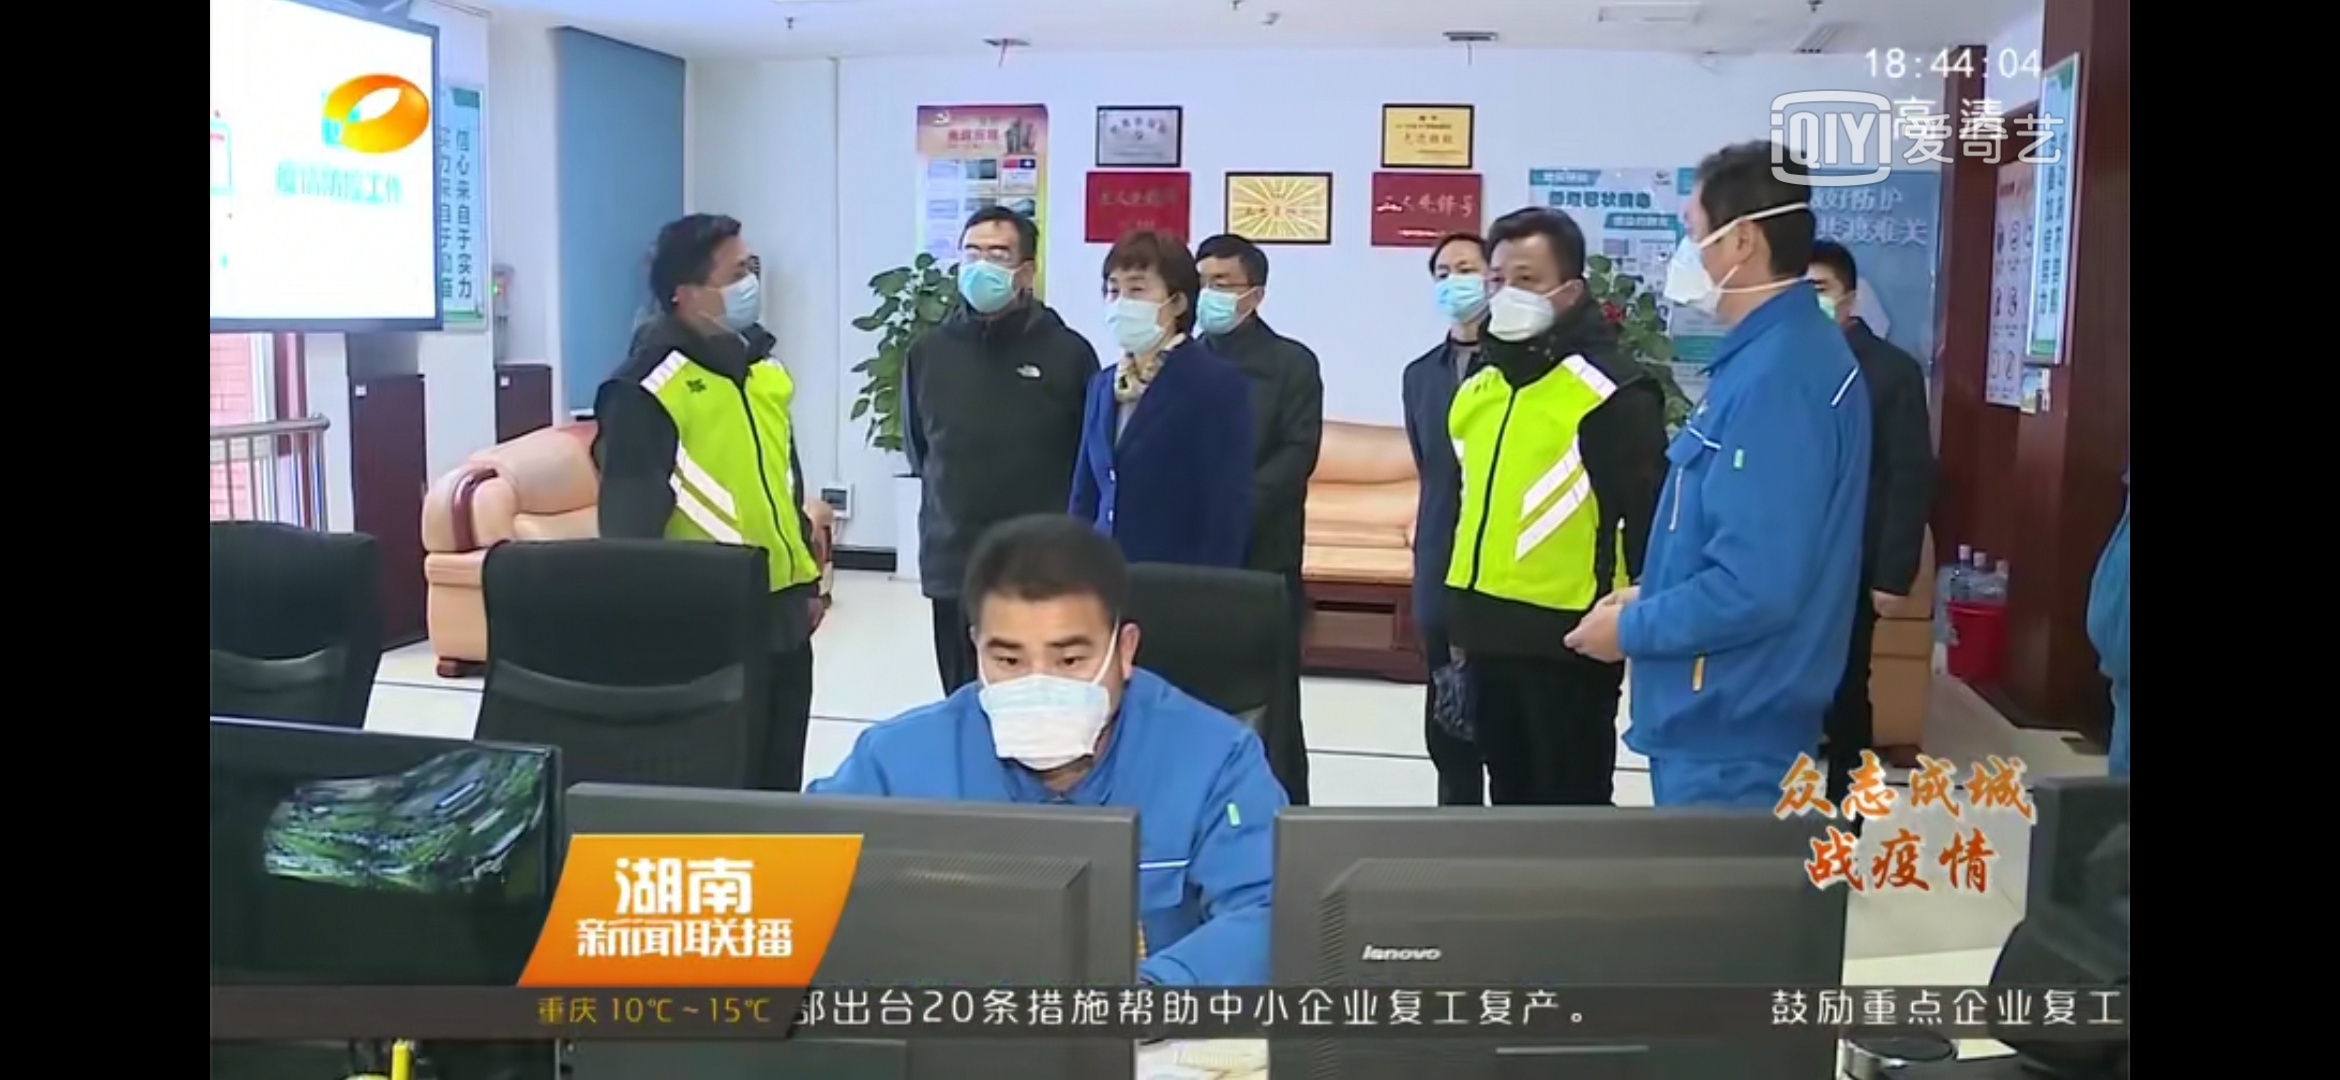correctlyWear: (966, 588, 1145, 758), (1668, 203, 1768, 342), (1486, 246, 1585, 349), (675, 251, 772, 345), (957, 233, 1040, 325), (1104, 274, 1186, 358), (1194, 260, 1273, 343), (1428, 240, 1491, 334), (1807, 266, 1858, 333)
